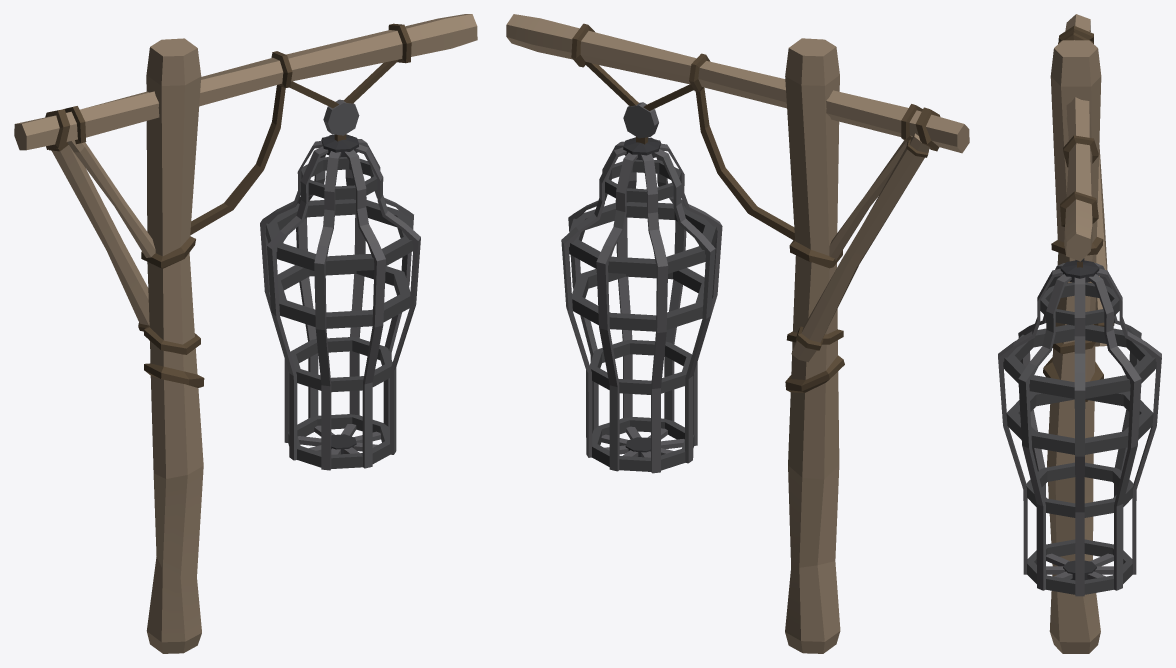
Rendered from Palo_Gabbia.fbx.
3 views of the same model, side by side, from view 1: azimuth 30°, elevation 25°; view 2: azimuth 150°, elevation 25°; view 3: azimuth 270°, elevation 25° (orthographic).
Parts seen in each view (by area): view 1: SM_Prop_Cage_05; view 2: SM_Prop_Cage_05; view 3: SM_Prop_Cage_05.
Part boxes in pixels (x1,y1,x2,y2): SM_Prop_Cage_05: [14, 14, 477, 653]; SM_Prop_Cage_05: [506, 14, 969, 653]; SM_Prop_Cage_05: [998, 14, 1161, 653].
Size of the model in its own units: 294 by 372 by 92.66.
Materials: 1 (1 with a texture image).
